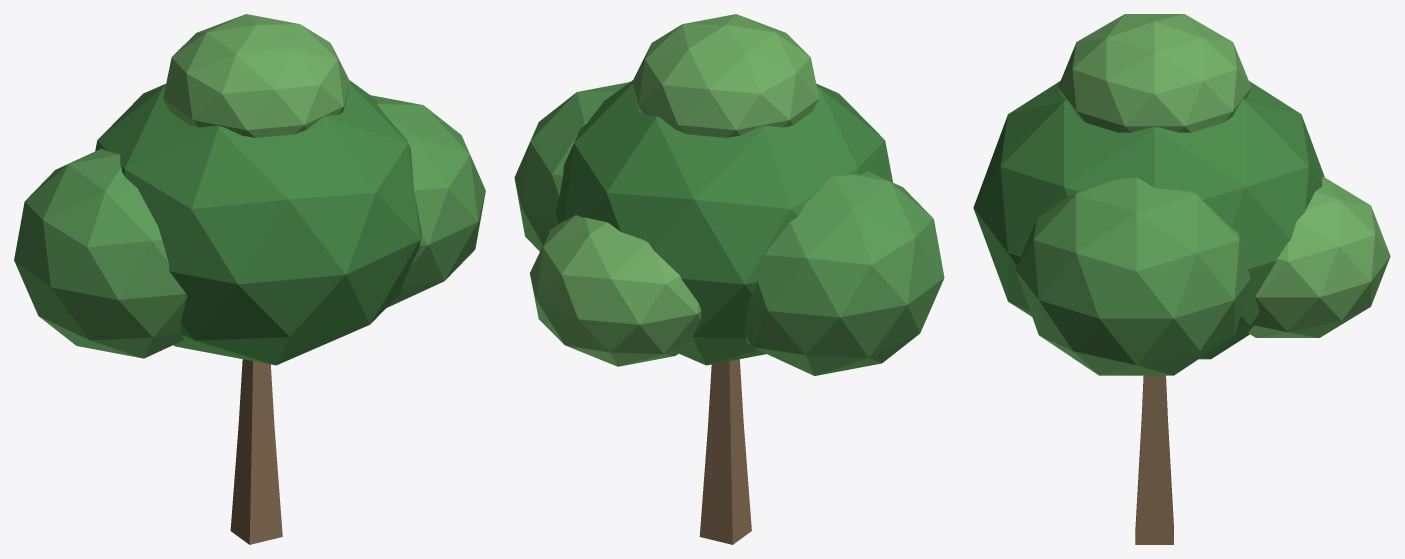
The model's file is oak_tree.fbx.
3 renders of one model, left to right at view 1: azimuth 30°, elevation 25°; view 2: azimuth 150°, elevation 25°; view 3: azimuth 270°, elevation 25°, orthographic.
Visible parts, largest first — view 1: oak_tree; view 2: oak_tree; view 3: oak_tree.
Boxes of the visible parts, x1,y1,x2,y2 form: oak_tree: [14, 14, 485, 544]; oak_tree: [514, 14, 944, 544]; oak_tree: [973, 14, 1390, 544].
Bounding box in the file's own units: 4 × 4.7 × 3.45.
